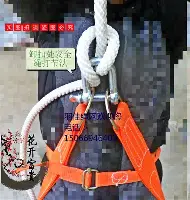safety belt: (30, 33, 171, 192)
